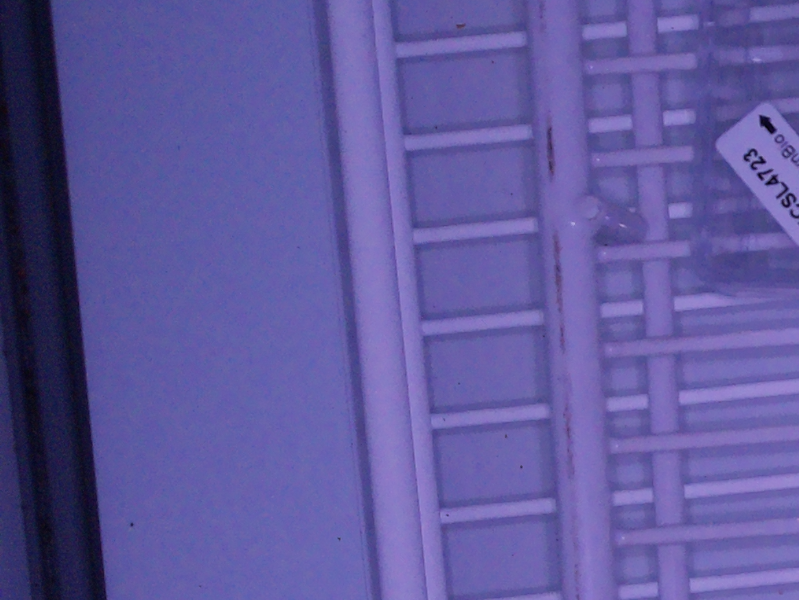plate: (689, 1, 799, 298)
